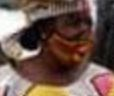with_facemask: (48, 28, 99, 69)
